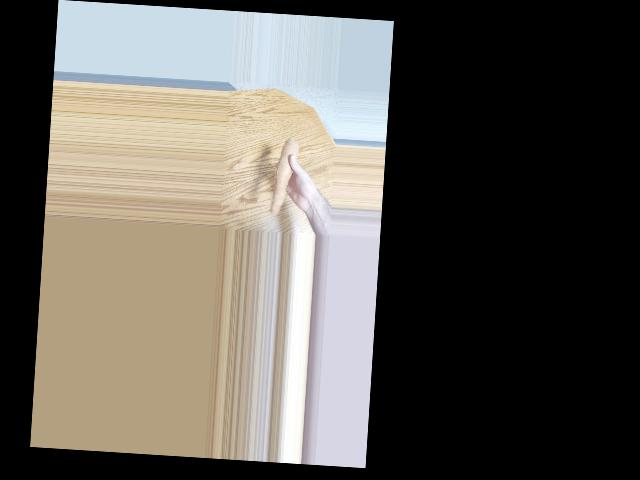sweet_potato: (273, 138, 292, 215)
